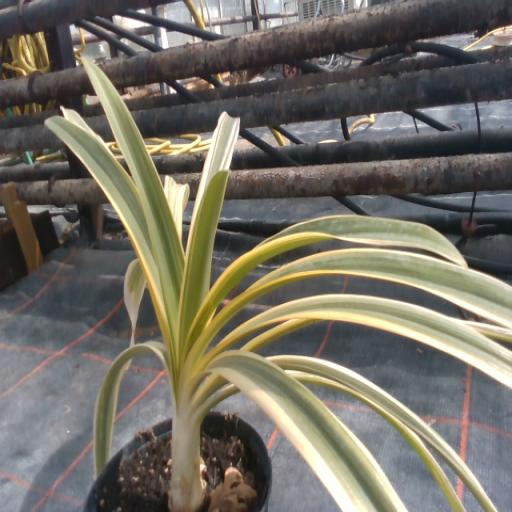Agapanthus-praecox: (271, 356, 496, 511), (190, 351, 406, 511), (190, 249, 511, 355), (199, 215, 467, 321), (83, 60, 183, 340), (206, 295, 511, 385), (287, 371, 466, 511), (46, 116, 164, 321), (94, 341, 169, 476), (180, 171, 226, 338), (192, 112, 238, 226), (61, 107, 111, 154), (124, 259, 146, 346), (164, 177, 189, 240), (210, 384, 238, 406)
